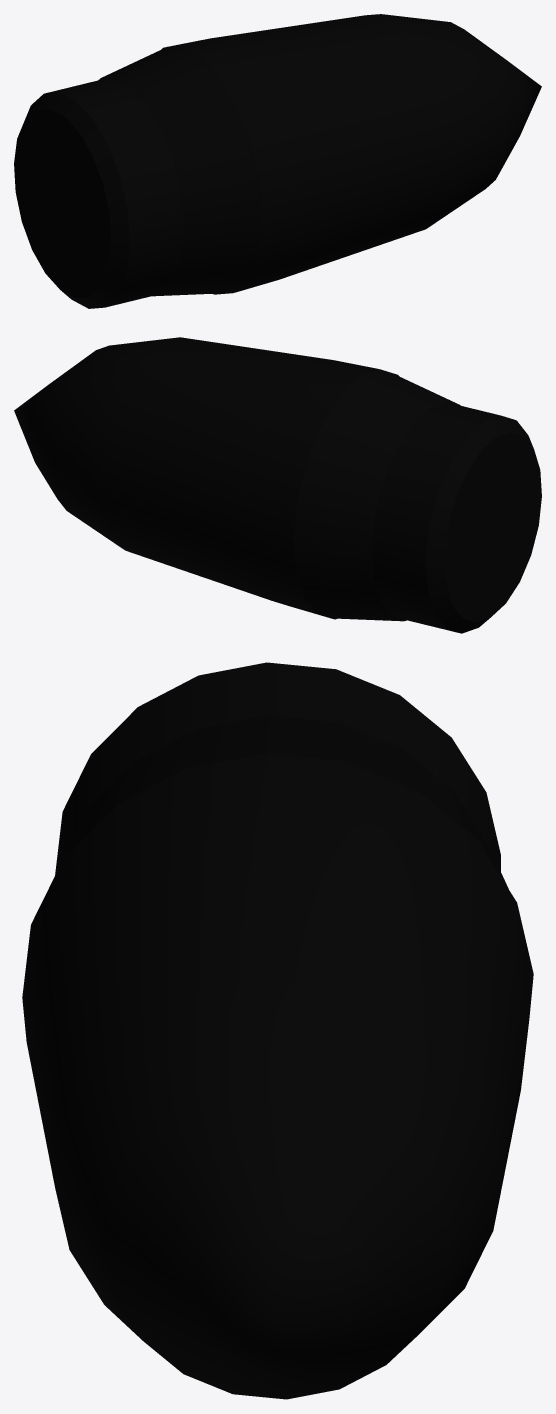
The model's file is bullet.dae.
3 views of the same model, one above another, from view 1: azimuth 30°, elevation 25°; view 2: azimuth 150°, elevation 25°; view 3: azimuth 270°, elevation 25° (orthographic). The views are drawn at different scales.
Parts seen in each view (by area): view 1: bullet_bullet_lopoly; view 2: bullet_bullet_lopoly; view 3: bullet_bullet_lopoly.
Part boxes in pixels (x1,y1,x2,y2): bullet_bullet_lopoly: [14, 14, 541, 308]; bullet_bullet_lopoly: [14, 337, 541, 633]; bullet_bullet_lopoly: [22, 662, 533, 1399].
Bounding box in the file's own units: 8.05 × 3.72 × 3.72.
